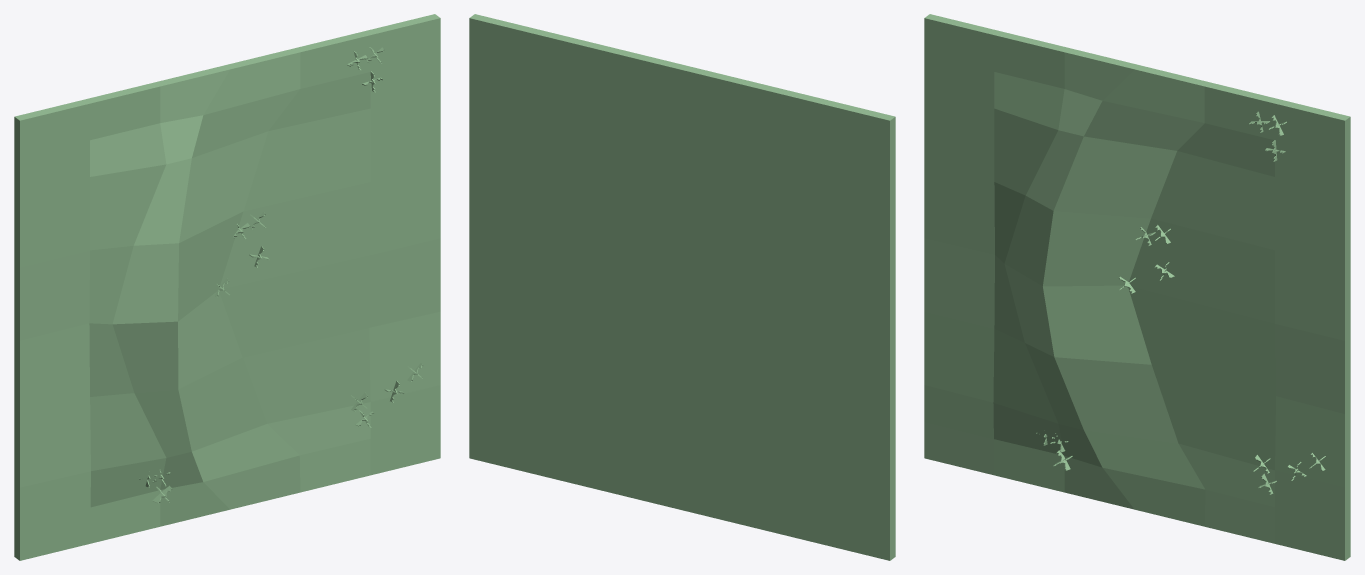
The model's file is Plains II Scale fixed.fbx.
The picture shows the model from 3 angles, left to right: view 1: azimuth 30°, elevation 25°; view 2: azimuth 150°, elevation 25°; view 3: azimuth 330°, elevation 25°; orthographic projection.
Parts seen in each view (by area): view 1: Plains II; view 2: Plains II; view 3: Plains II.
Boxes of the visible parts, x1=… form: Plains II: x1=14, y1=14, x2=440, y2=560; Plains II: x1=469, y1=14, x2=895, y2=560; Plains II: x1=924, y1=14, x2=1350, y2=560.
Size of the model in its own units: 16029 by 16029 by 1678.
